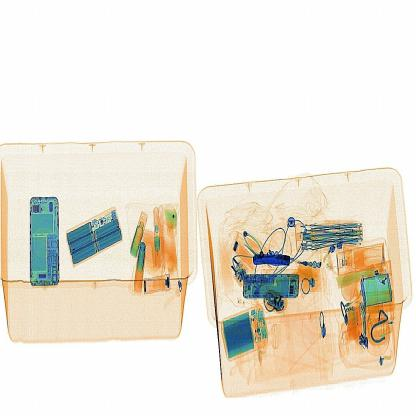knife: (248, 247, 301, 271)
